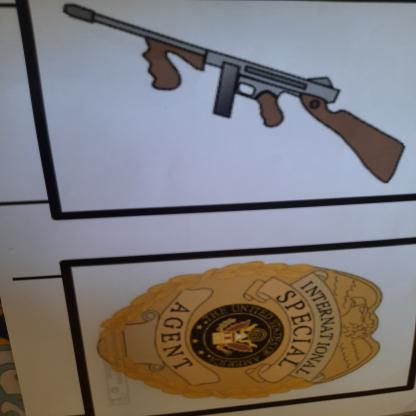Bootlegger: (42, 1, 416, 196)
G-man: (68, 253, 403, 409)
